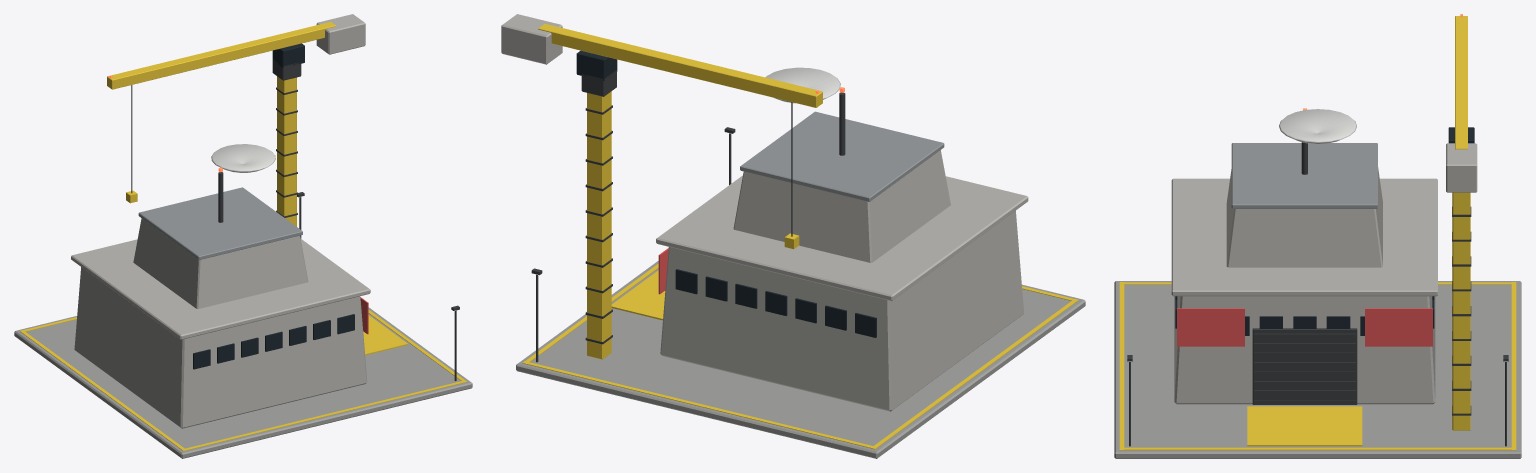
3 views of the same model, side by side, from view 1: azimuth 30°, elevation 25°; view 2: azimuth 150°, elevation 25°; view 3: azimuth 270°, elevation 25° (orthographic). The views are drawn at different scales.
Visible parts, largest first — view 1: Base, Crane, Antenna; view 2: Base, Crane, Antenna; view 3: Base, Crane, Antenna.
Boxes of the visible parts, box(x1,y1,x2,y2) form: Base: box(14, 76, 472, 458); Crane: box(107, 14, 365, 203); Antenna: box(211, 144, 275, 222); Base: box(516, 91, 1085, 458); Crane: box(501, 14, 822, 249); Antenna: box(765, 67, 845, 155); Base: box(1114, 143, 1521, 458); Crane: box(1446, 14, 1477, 192); Antenna: box(1279, 108, 1356, 174).
Bounding box in the file's own units: 17.2 × 13.35 × 15.6.
